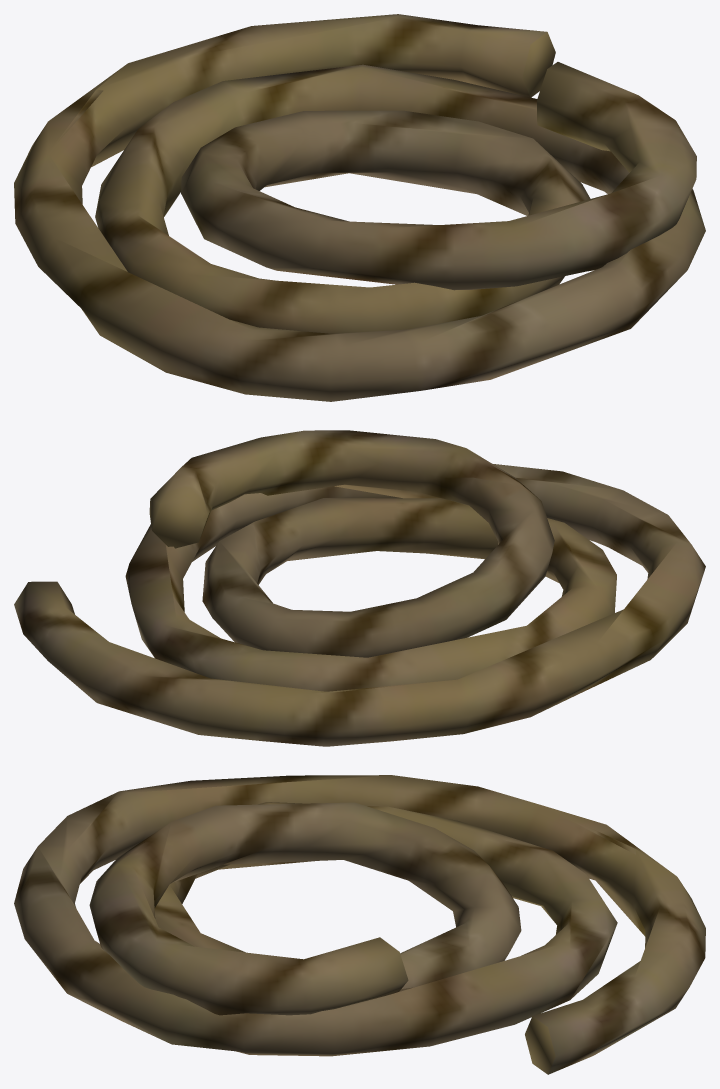
File: Rope_1.gltf
3 renders of one model, top to bottom at view 1: azimuth 30°, elevation 25°; view 2: azimuth 150°, elevation 25°; view 3: azimuth 270°, elevation 25°, orthographic. The views are drawn at different scales.
Visible parts, largest first — view 1: Rope_1; view 2: Rope_1; view 3: Rope_1.
Boxes of the visible parts, box(x1,y1,x2,y2) form: Rope_1: box(14, 14, 705, 401); Rope_1: box(14, 430, 705, 746); Rope_1: box(14, 775, 705, 1074).
Size of the model in its own units: 0.5574 by 0.097 by 0.6063.
Materials: 1 (1 with a texture image).
